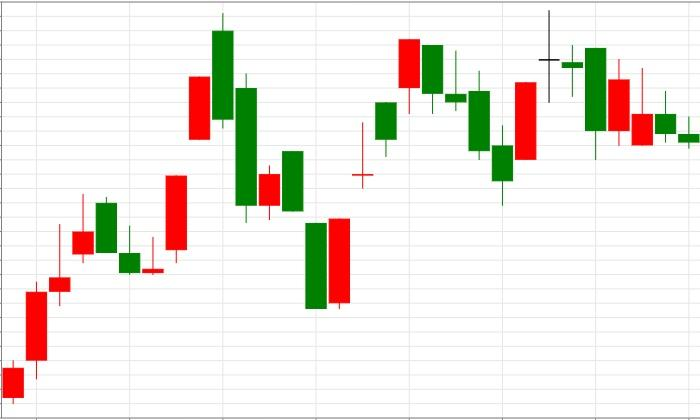bullish_engulfing_rise: (212, 14, 350, 309)
